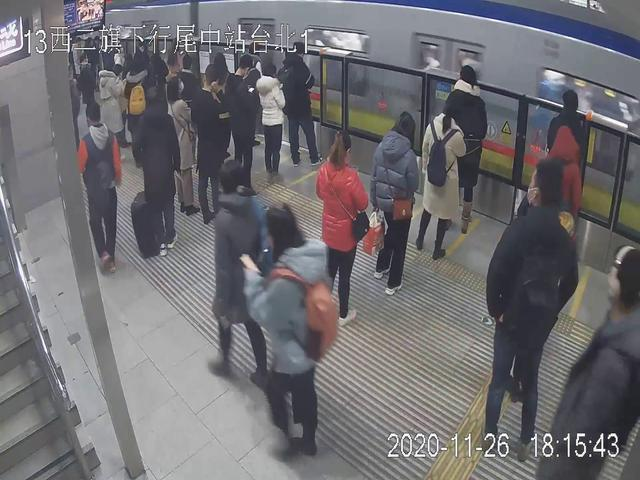person: (489, 157, 561, 455), (255, 203, 339, 452), (561, 240, 640, 480), (211, 162, 277, 382), (315, 124, 364, 325), (373, 110, 416, 295), (132, 86, 176, 256), (77, 100, 115, 274), (423, 99, 461, 261), (444, 67, 479, 230), (194, 64, 227, 223), (282, 39, 322, 165), (168, 76, 199, 217), (228, 54, 258, 193), (257, 62, 287, 170)
